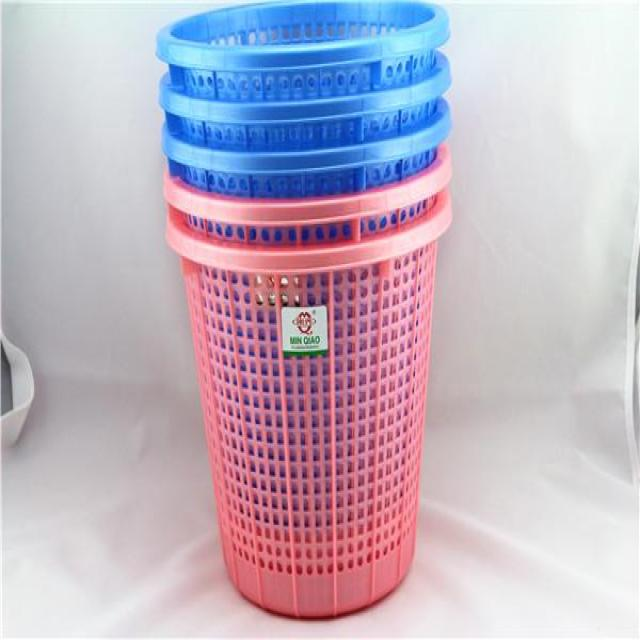dustbin: (157, 0, 458, 621)
